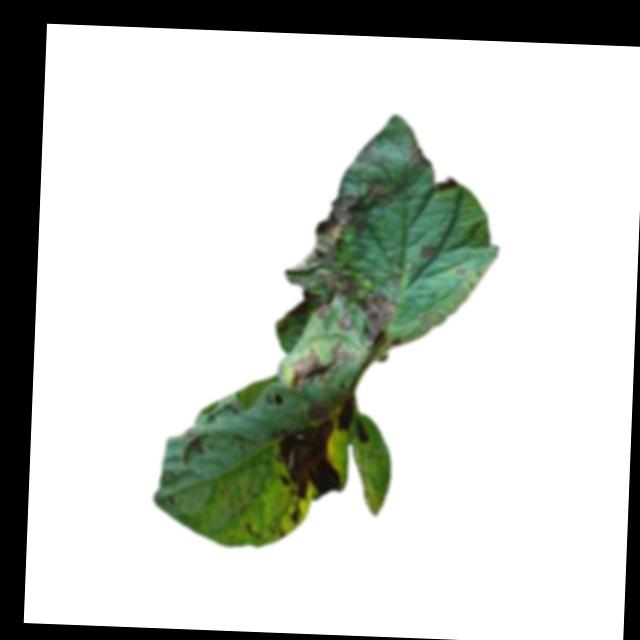Early_blight: (273, 177, 402, 344), (269, 415, 345, 504), (290, 338, 357, 394), (334, 393, 372, 445), (287, 499, 303, 526), (432, 175, 457, 191), (416, 243, 435, 257)
